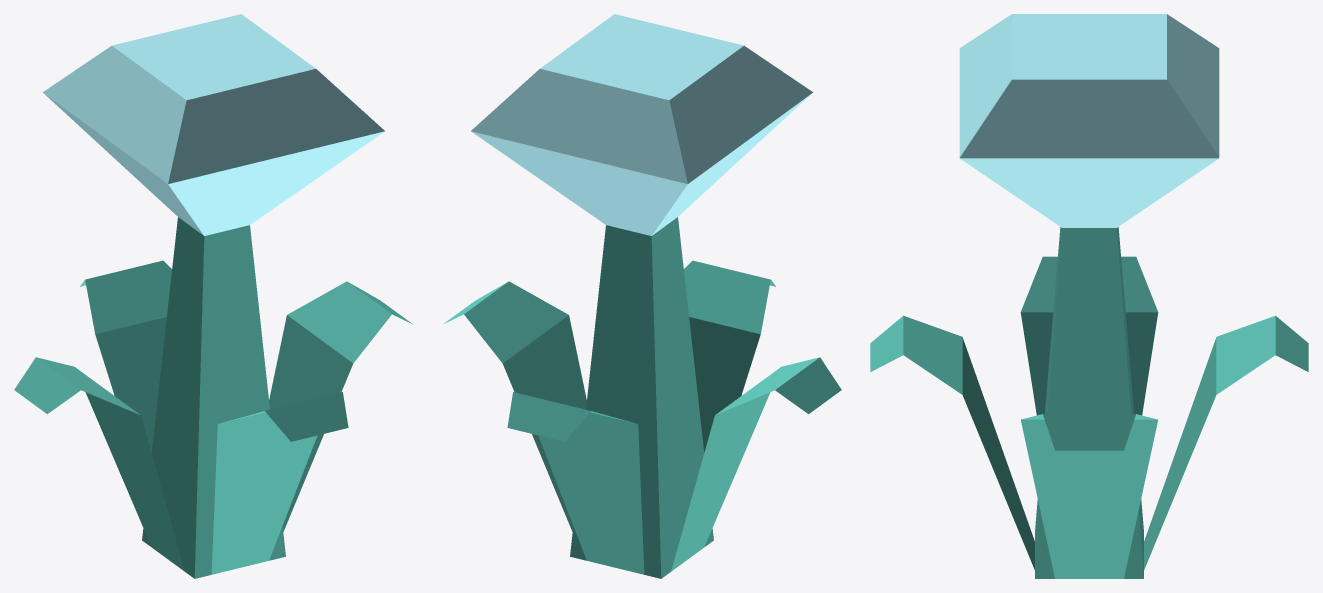
The model's file is flower_blue2.obj.
3 renders of one model, left to right at view 1: azimuth 30°, elevation 25°; view 2: azimuth 150°, elevation 25°; view 3: azimuth 270°, elevation 25°, orthographic. The views are drawn at different scales.
Parts seen in each view (by area): view 1: flower_blue2; view 2: flower_blue2; view 3: flower_blue2.
Part boxes in pixels (x1,y1,x2,y2): flower_blue2: [14, 14, 412, 578]; flower_blue2: [443, 14, 841, 578]; flower_blue2: [870, 14, 1308, 578].
Bounding box in the file's own units: 1.71 × 2.2 × 1.71.
